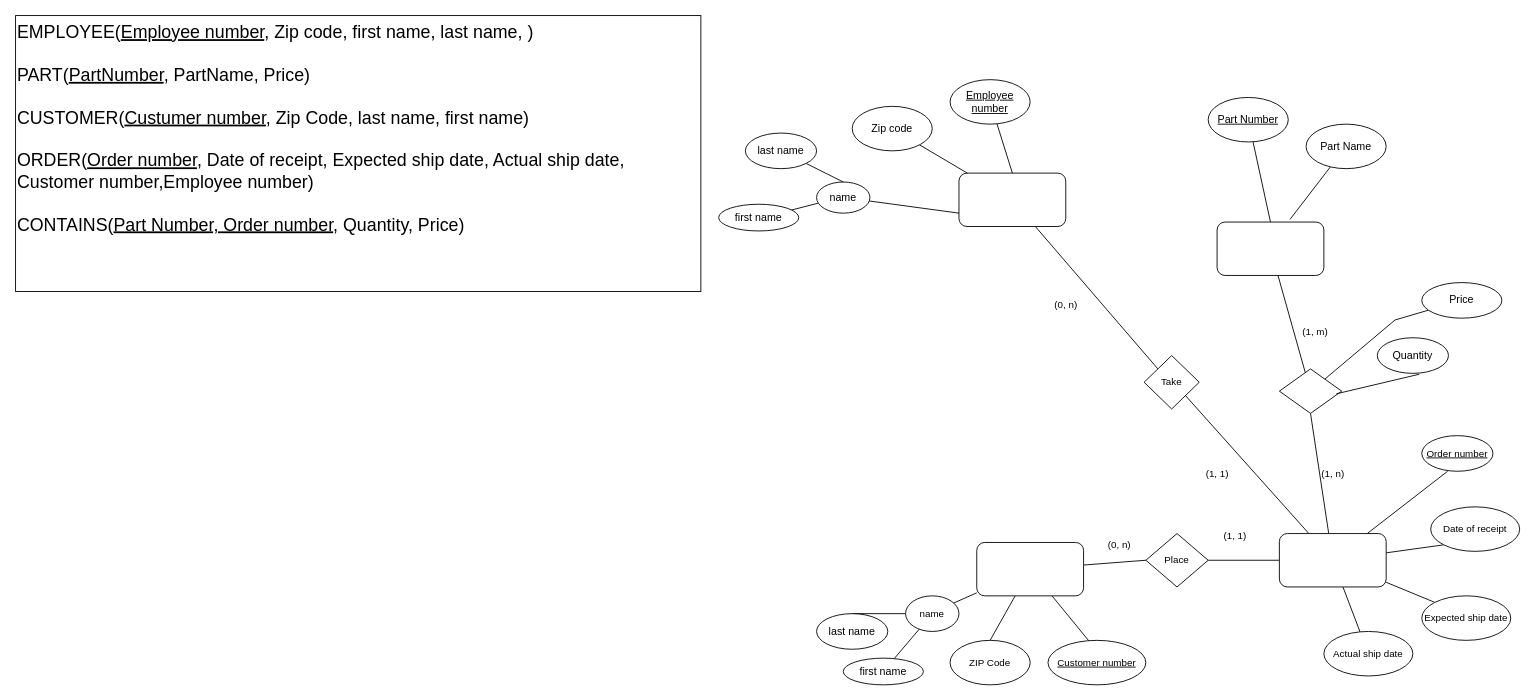
The diagram is 1535 pixels wide and 700 high, and some of its shapes have lost their labels. The shapes that lost their labels are listed below. From the top down, each one's box as (x1, y1, x2, y2) in pixels, then its label:
(958, 172, 1066, 227): EMPLOYEE
(1216, 221, 1324, 275): PART
(1278, 368, 1342, 413): contain
(976, 542, 1084, 596): CUSTOMER
(1278, 533, 1386, 587): ORDER
